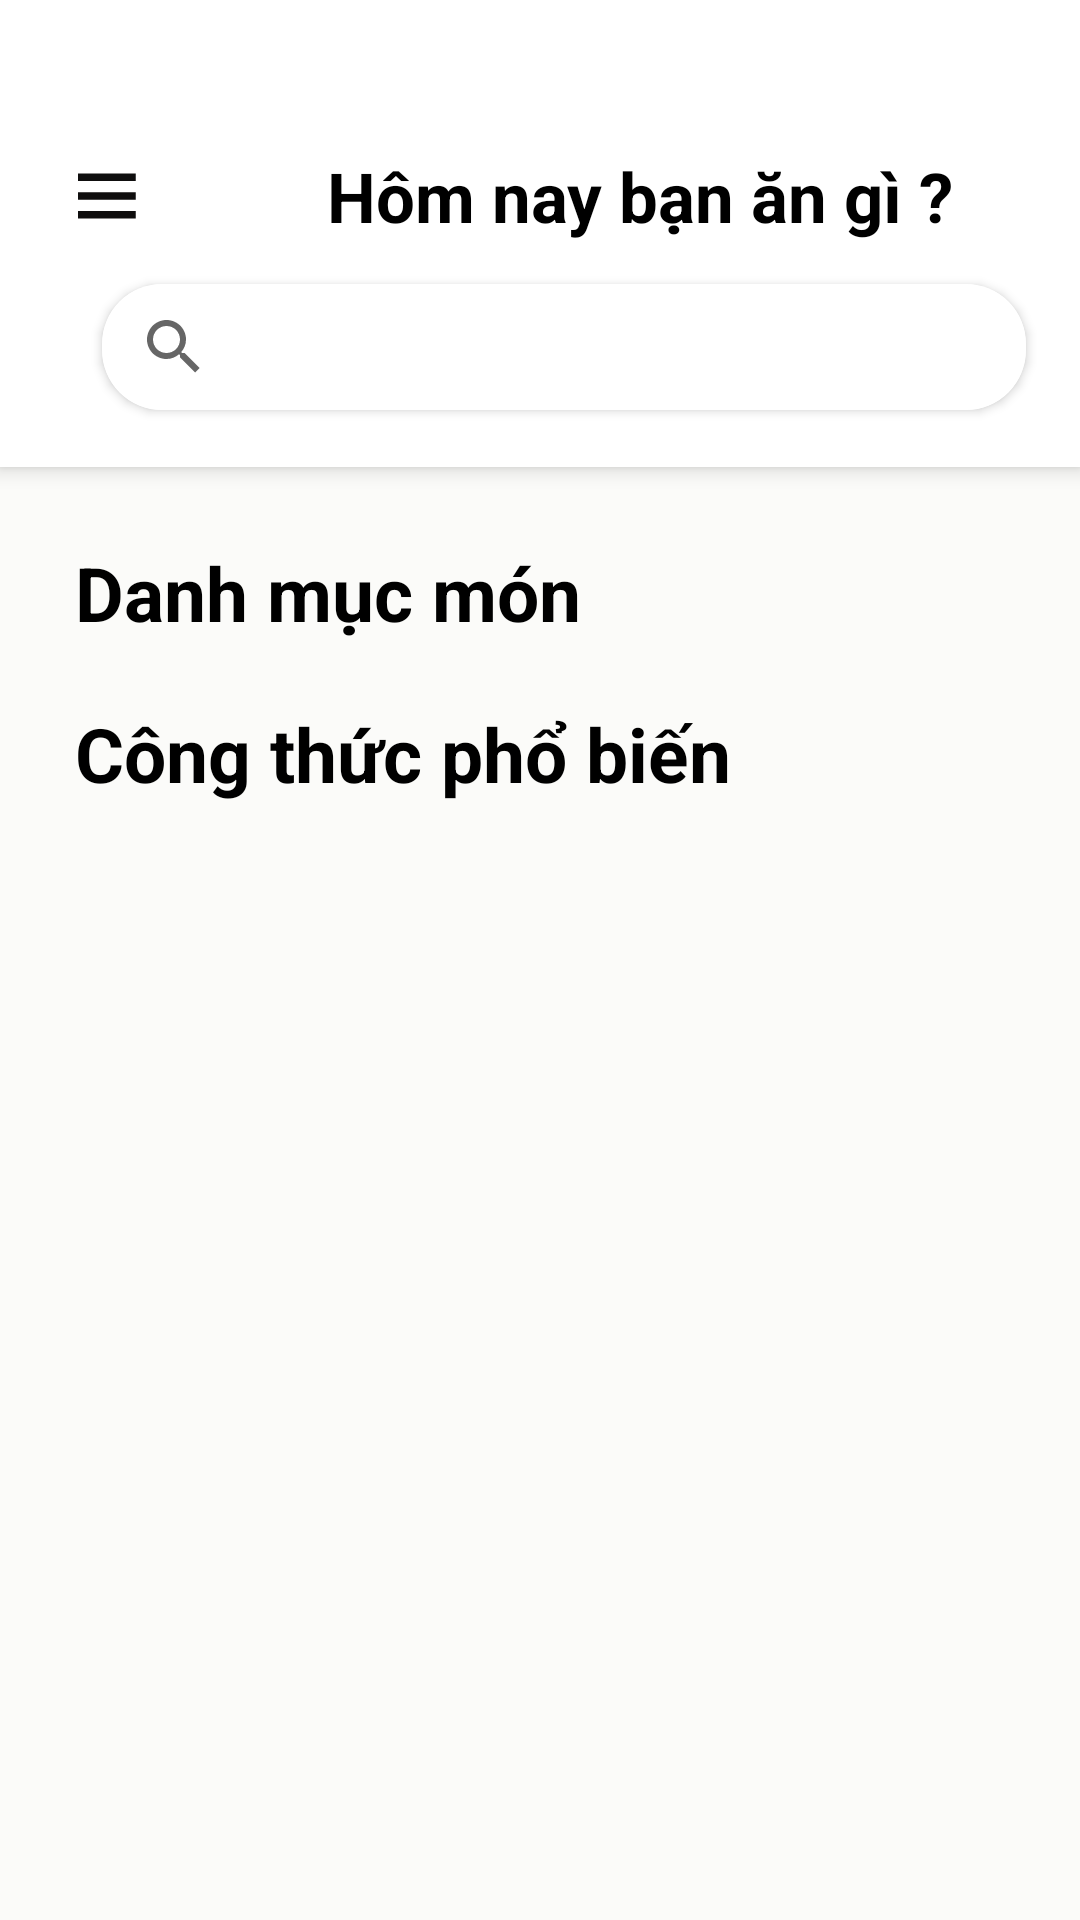

Icons on this 1080w x 1920h Android screen, each with its box as [x1,y1,x2,y2]:
menu: [78,173,136,219]
